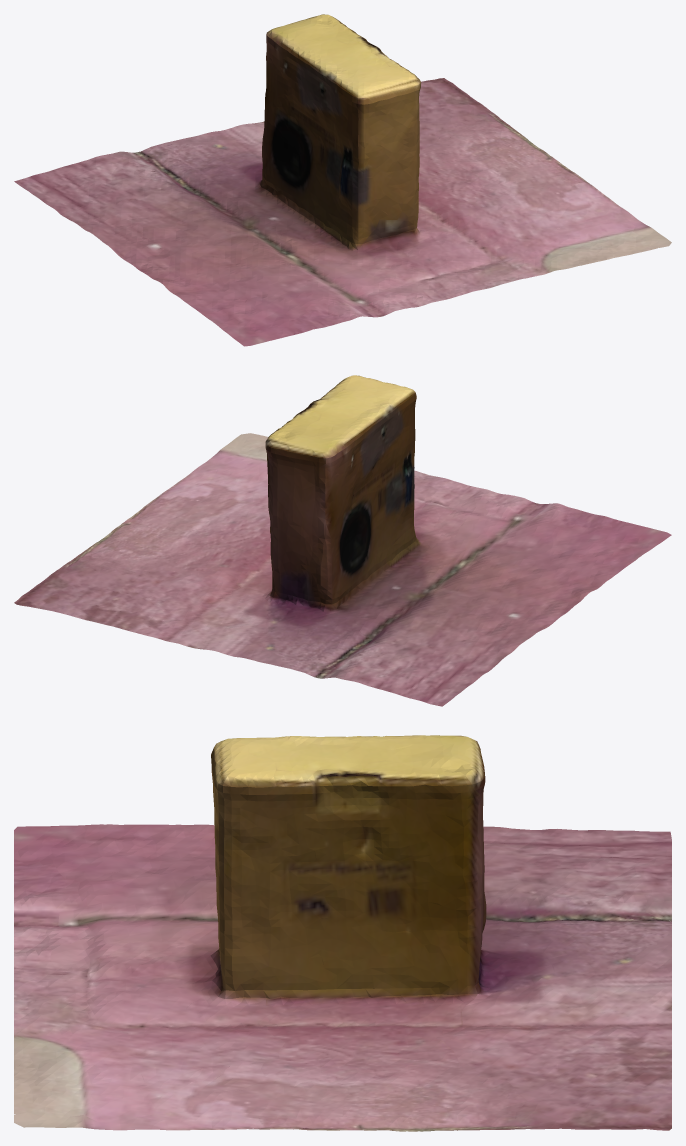
The model's file is mbo_pedals_screambox.glb.
3 views of the same model, one above another, from view 1: azimuth 30°, elevation 25°; view 2: azimuth 150°, elevation 25°; view 3: azimuth 270°, elevation 25° (orthographic). The views are drawn at different scales.
Bounding box in the file's own units: 0.5451 × 0.1966 × 0.5095.
1 material, 1 textured.
